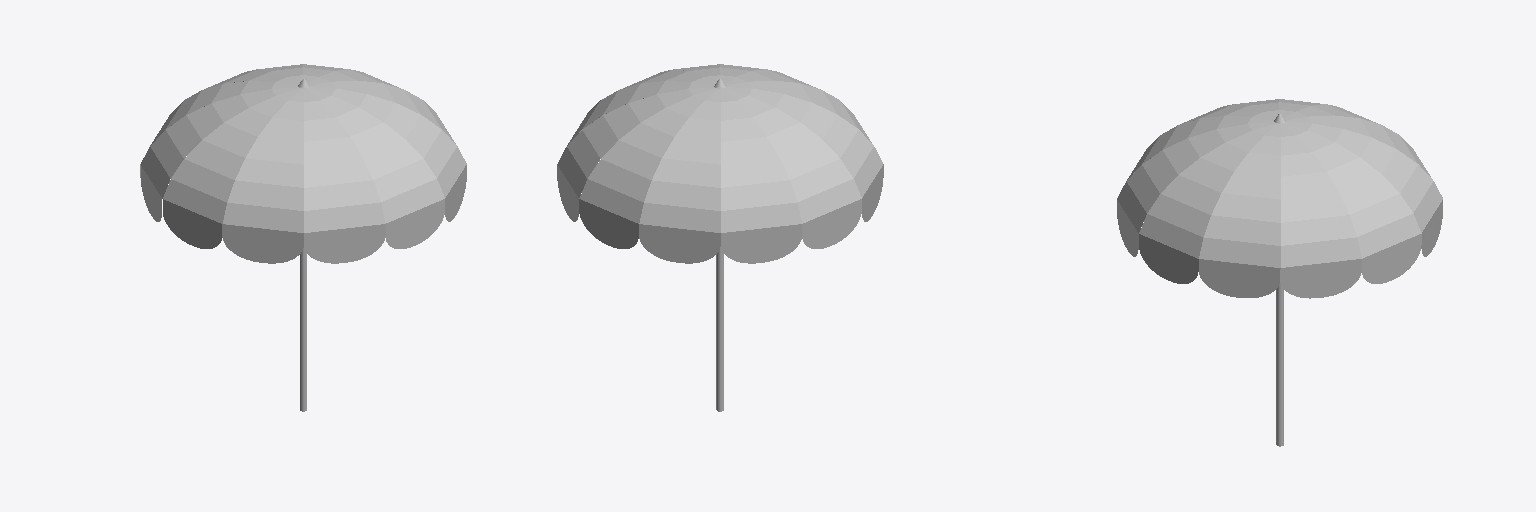
File: guarda sol.obj
3 renders of one model, left to right at view 1: azimuth 30°, elevation 25°; view 2: azimuth 150°, elevation 25°; view 3: azimuth 270°, elevation 25°, orthographic.
Parts seen in each view (by area): view 1: Cylinder; view 2: Cylinder; view 3: Cylinder.
Boxes of the visible parts, x1,y1,x2,y2 form: Cylinder: [140, 64, 466, 411]; Cylinder: [557, 64, 883, 411]; Cylinder: [1117, 99, 1442, 446].
Bounding box in the file's own units: 35.21 × 29.49 × 26.34.